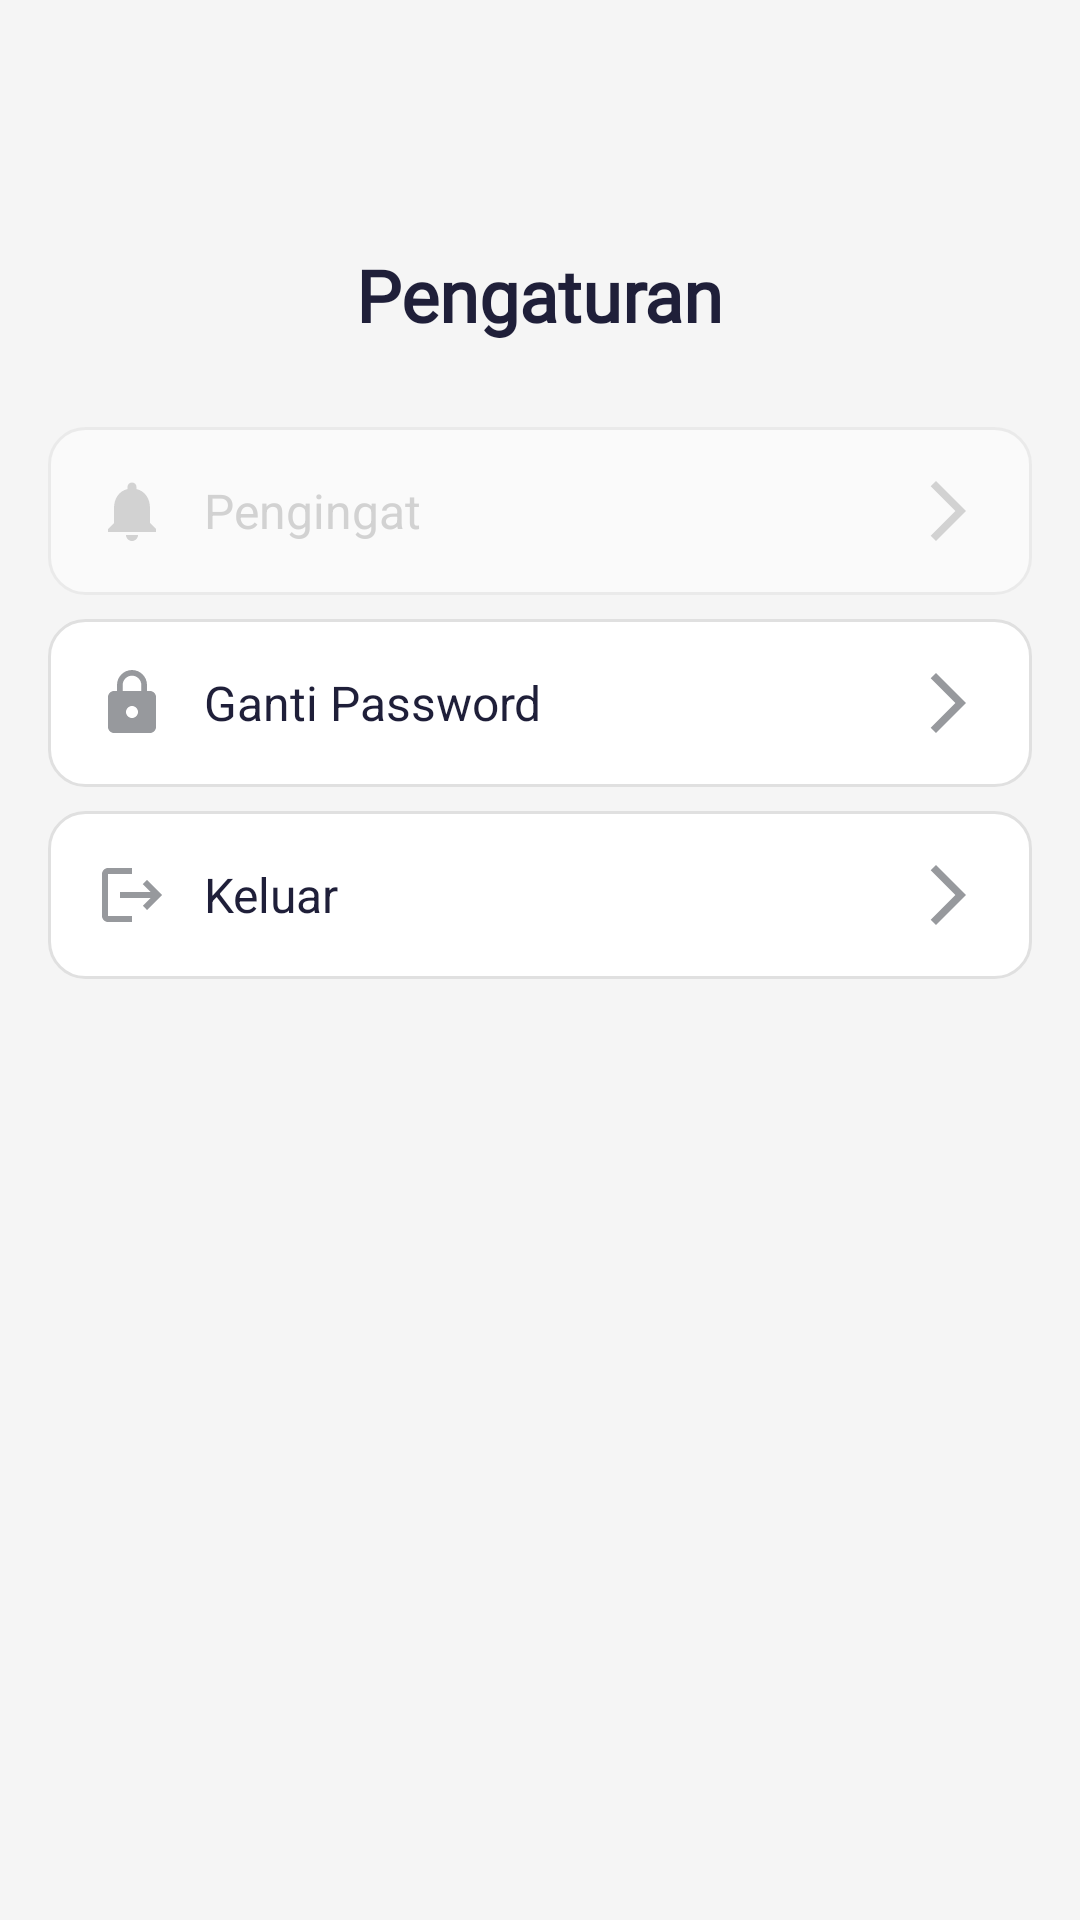

Named icons in this screenshot (1080w x 1920h) and their centers, (x=x, y=y):
arrow right: (x=948, y=511), (x=948, y=703), (x=948, y=895)
reminder: (x=132, y=512)
